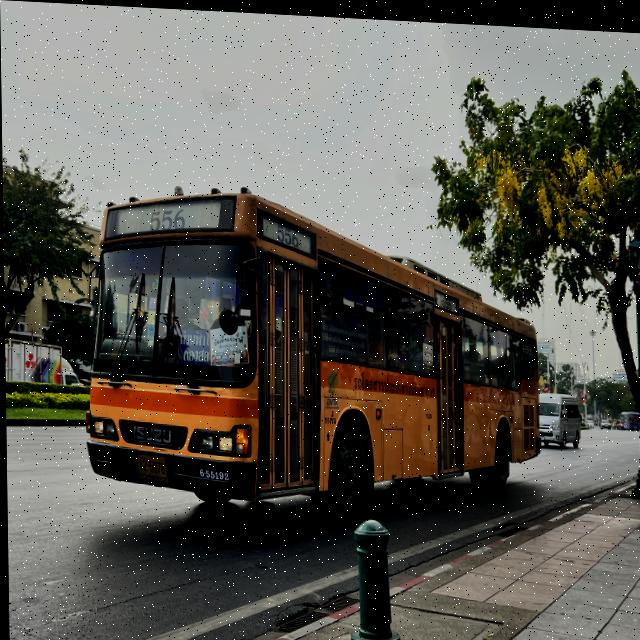BMTA-bus: (81, 179, 541, 530)
Bus-Line-Number: (141, 204, 192, 235), (272, 217, 302, 250), (437, 286, 454, 310)
Destination-Sign-Normal: (176, 323, 211, 365)
